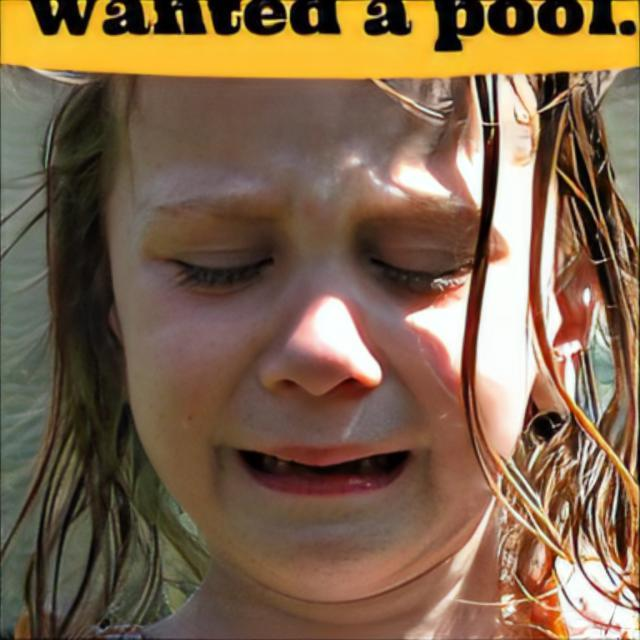sad: (104, 80, 536, 604)
